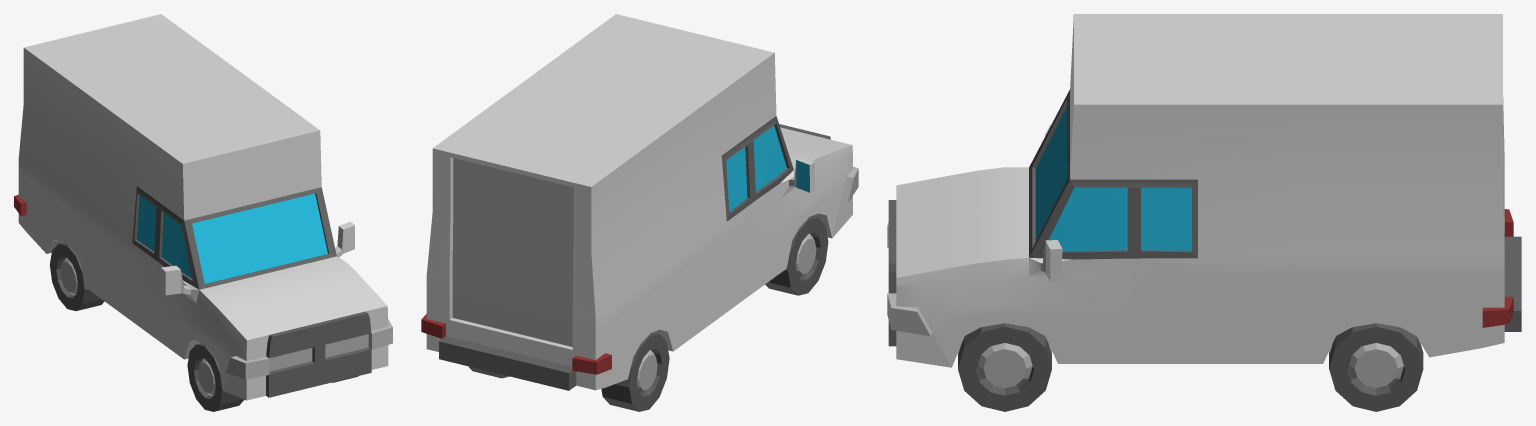
File: White Moving Truck.fbx
The picture shows the model from 3 angles, left to right: view 1: azimuth 30°, elevation 25°; view 2: azimuth 150°, elevation 25°; view 3: azimuth 270°, elevation 25°; orthographic projection. The views are drawn at different scales.
Parts seen in each view (by area): view 1: polySurface25; view 2: polySurface25; view 3: polySurface25.
Part boxes in pixels (<box>): polySurface25: <box>14,14,392,411</box>; polySurface25: <box>421,14,858,411</box>; polySurface25: <box>887,14,1521,411</box>.
Size of the model in its own units: 2.88 by 3.29 by 6.19.
